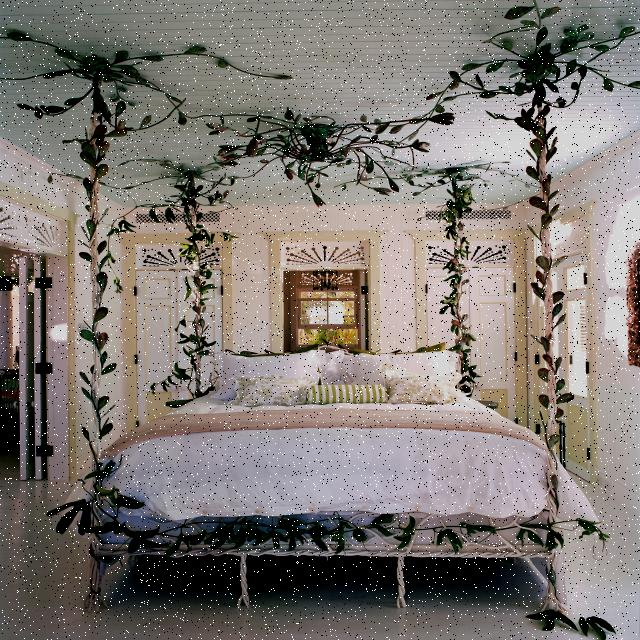bed: (102, 342, 554, 526)
